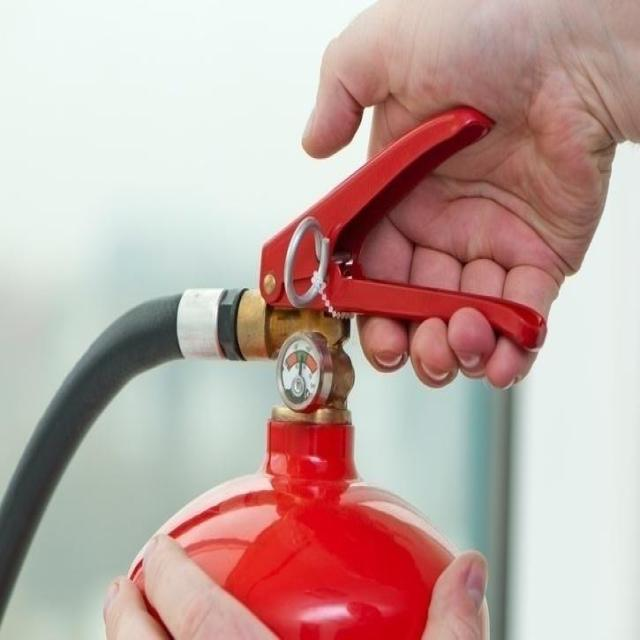fire_extinguisher: (0, 97, 553, 639)
